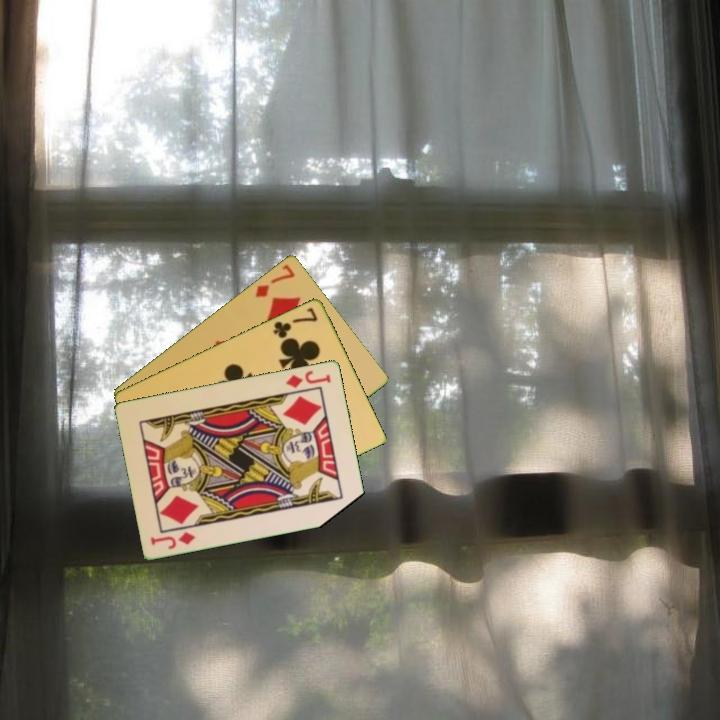7c: (270, 303, 321, 341)
7d: (252, 260, 298, 300)
Jd: (283, 367, 334, 391), (147, 528, 198, 552)
